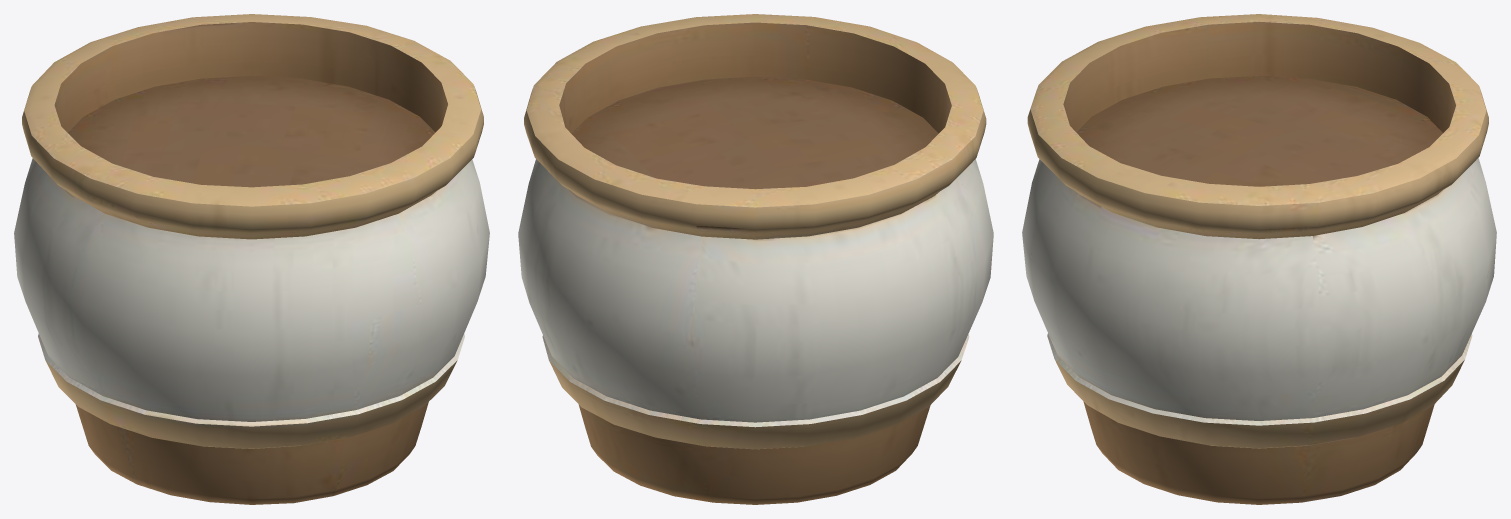
The model's file is planter-pot.glb.
The picture shows the model from 3 angles, left to right: view 1: azimuth 30°, elevation 25°; view 2: azimuth 150°, elevation 25°; view 3: azimuth 270°, elevation 25°; orthographic projection.
Parts seen in each view (by area): view 1: pot, soil; view 2: pot, soil; view 3: pot, soil.
Boxes of the visible parts, x1,y1,x2,y2 form: pot: (14, 14, 489, 504); soil: (68, 75, 435, 187); pot: (518, 14, 993, 504); soil: (572, 76, 938, 189); pot: (1022, 14, 1496, 504); soil: (1076, 75, 1442, 186).
Bounding box in the file's own units: 0.6883 × 0.5377 × 0.6896.
Materials: 4 (4 with a texture image).
